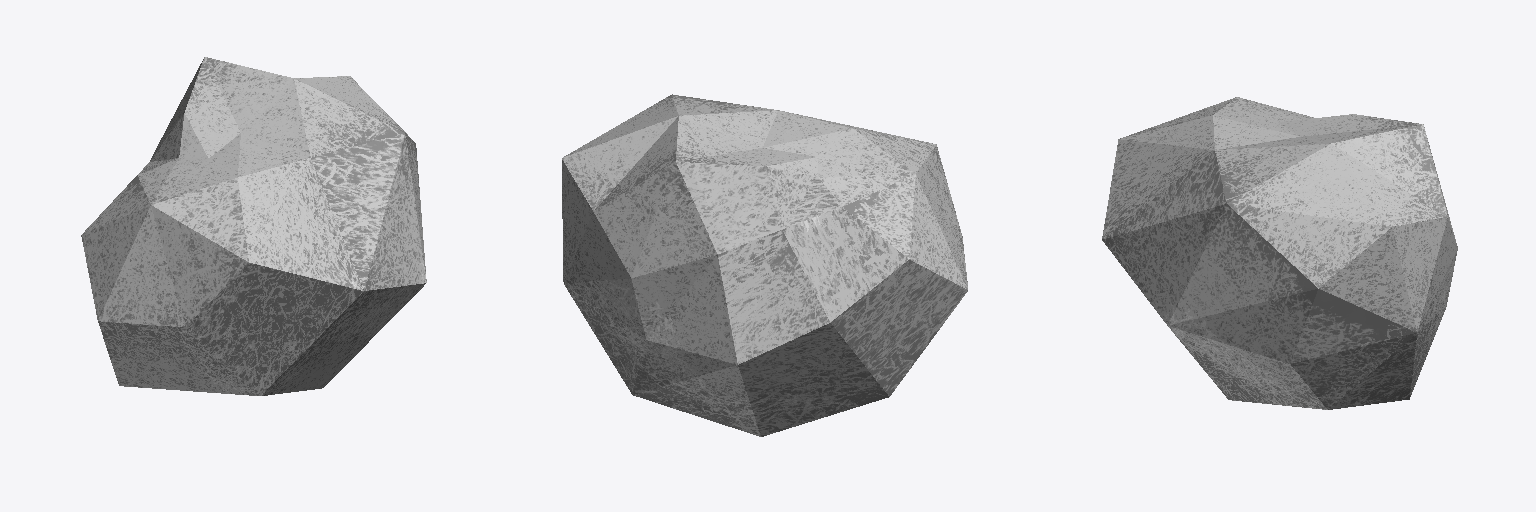
3 renders of one model, left to right at view 1: azimuth 30°, elevation 25°; view 2: azimuth 150°, elevation 25°; view 3: azimuth 270°, elevation 25°, orthographic.
Parts seen in each view (by area): view 1: Sphere; view 2: Sphere; view 3: Sphere.
Boxes of the visible parts, <box> form: Sphere: <box>81,57,426,395</box>; Sphere: <box>562,94,967,436</box>; Sphere: <box>1102,97,1457,409</box>.
Bounding box in the file's own units: 1.89 × 1.44 × 1.62.
1 materials, 1 textured.